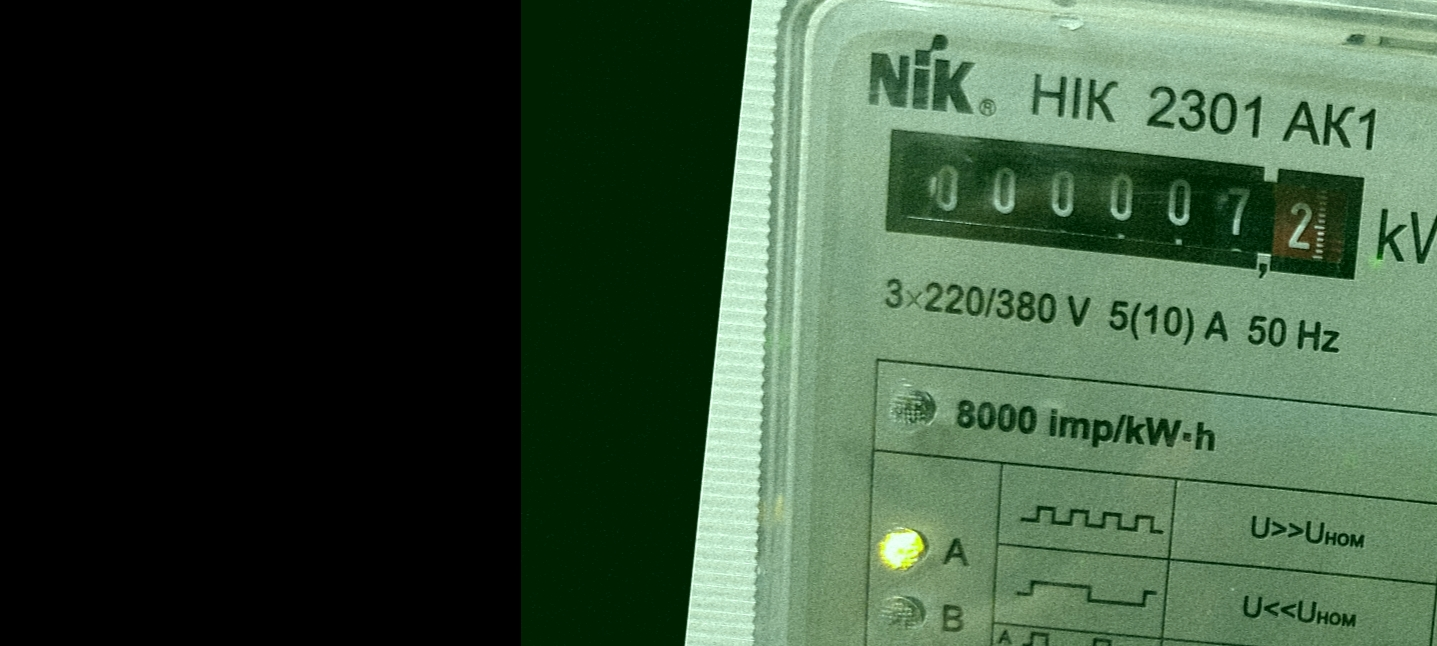0: (986, 161, 1026, 216), (1104, 168, 1141, 224), (1162, 174, 1199, 230), (1046, 164, 1082, 220), (930, 160, 966, 213)
2: (1284, 198, 1319, 252)
7: (1220, 181, 1255, 239)
screen: (863, 107, 1388, 301)
